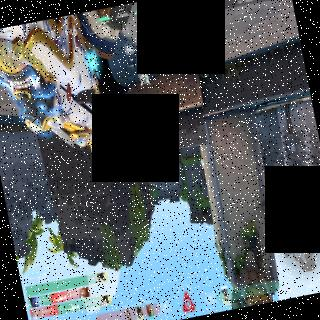ENEMY-HEAD: (158, 163, 160, 168)
